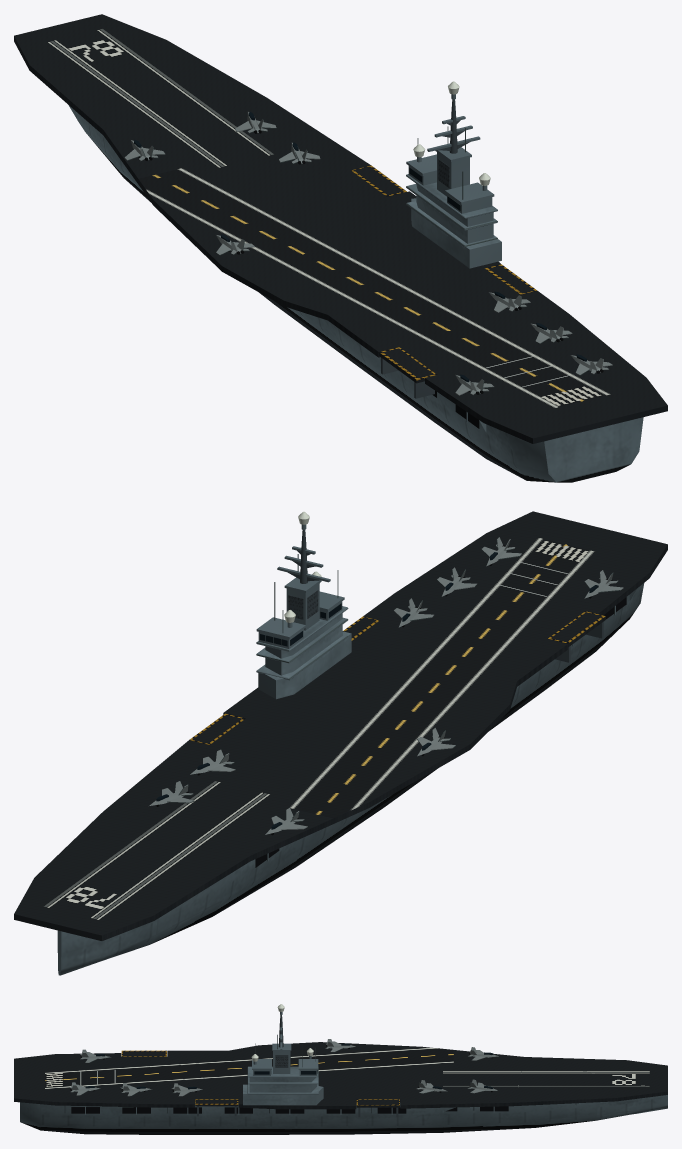
File: aircraft_carrier_lod1.glb
3 renders of one model, top to bottom at view 1: azimuth 30°, elevation 25°; view 2: azimuth 150°, elevation 25°; view 3: azimuth 270°, elevation 25°, orthographic. The views are drawn at different scales.
Visible parts, largest first — view 1: deck, hull, island, aircraft, elevators, mast; view 2: deck, hull, island, aircraft, elevators, mast; view 3: deck, hull, island, aircraft, elevators, mast.
Part boxes in pixels (x1,y1,x2,y2): deck: [14, 14, 667, 443]; hull: [68, 105, 643, 482]; island: [406, 147, 501, 268]; aircraft: [124, 112, 612, 395]; elevators: [351, 165, 537, 383]; mast: [413, 81, 490, 199]; deck: [14, 511, 667, 940]; hull: [57, 583, 644, 975]; island: [256, 577, 351, 699]; aircraft: [149, 537, 623, 835]; elevators: [189, 611, 605, 744]; mast: [274, 511, 338, 632]; deck: [14, 1042, 667, 1109]; hull: [20, 1095, 667, 1134]; island: [243, 1043, 323, 1105]; aircraft: [69, 1039, 498, 1096]; elevators: [121, 1050, 399, 1107]; mast: [251, 1004, 315, 1066].
Size of the model in its own units: 15.3 by 15.05 by 64.
Materials: 1 (1 with a texture image).
